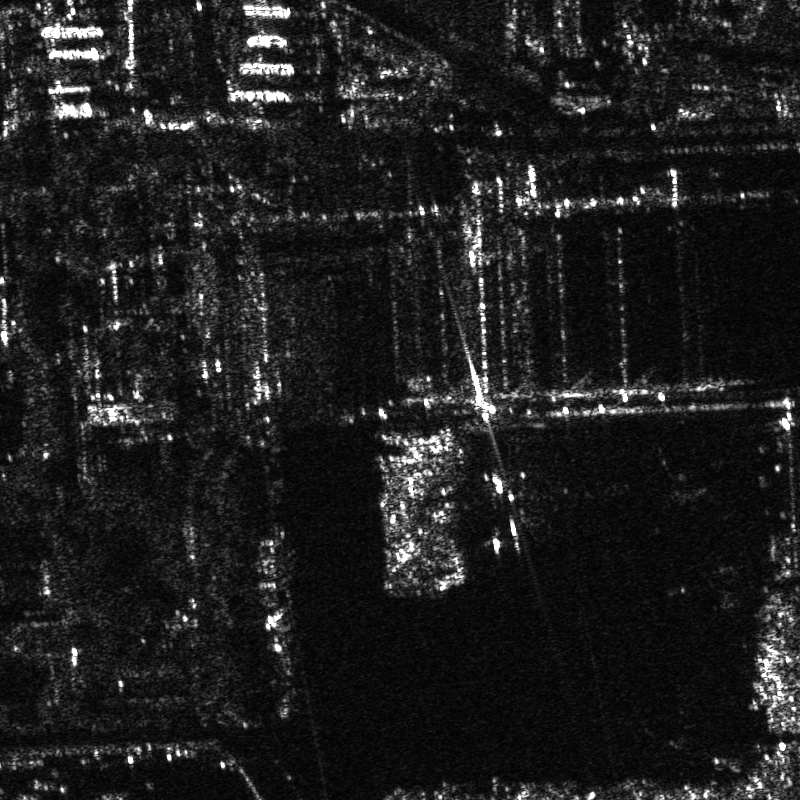Boeing737: (474, 454, 547, 561)
